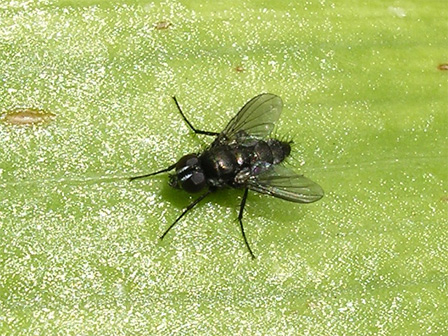green bottles fly: (114, 65, 345, 282)
